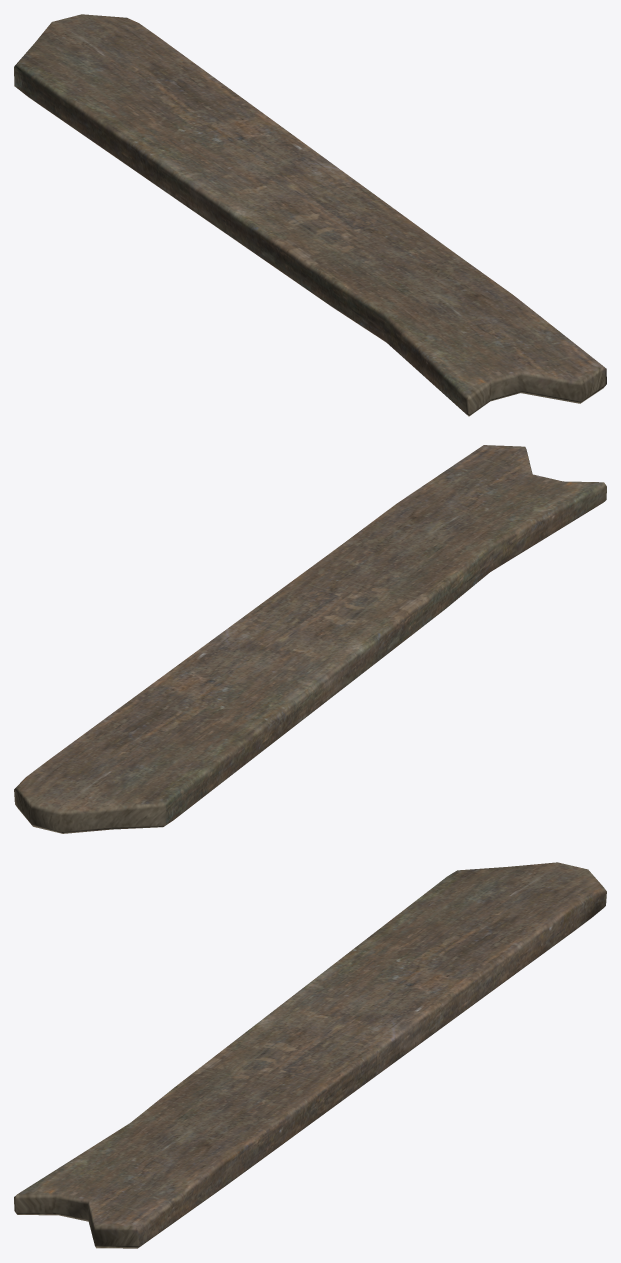
The model's file is SM_Plank_08.fbx.
The picture shows the model from 3 angles, top to bottom: view 1: azimuth 30°, elevation 25°; view 2: azimuth 150°, elevation 25°; view 3: azimuth 330°, elevation 25°; orthographic projection. The views are drawn at different scales.
Visible parts, largest first — view 1: SM_Plank_08_LOD0; view 2: SM_Plank_08_LOD0; view 3: SM_Plank_08_LOD0.
Boxes of the visible parts, bbox=[...] form: SM_Plank_08_LOD0: bbox=[14, 14, 606, 416]; SM_Plank_08_LOD0: bbox=[14, 445, 606, 833]; SM_Plank_08_LOD0: bbox=[14, 862, 606, 1248].
Size of the model in its own units: 26.04 by 167 by 5.85.
Materials: 1 (1 with a texture image).
